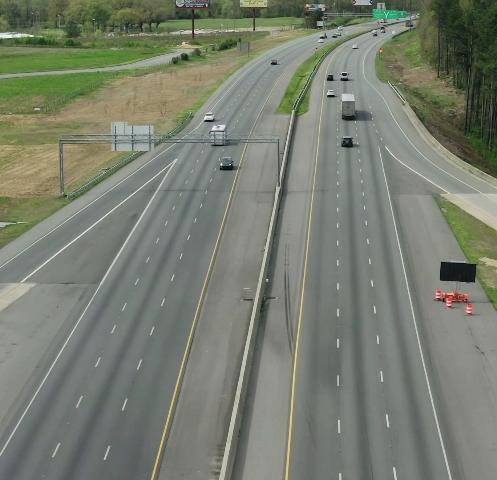car: (219, 154, 238, 171), (341, 135, 356, 151), (326, 87, 338, 99), (204, 110, 216, 122), (268, 58, 280, 67), (325, 72, 336, 81)
pickup-truck: (339, 70, 352, 82)
truck: (342, 93, 359, 122)
